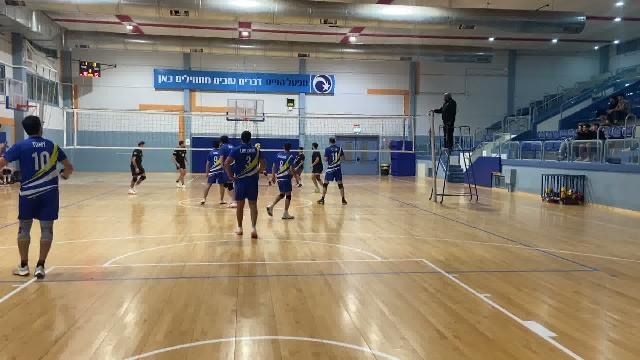ball: (255, 141, 262, 151)
